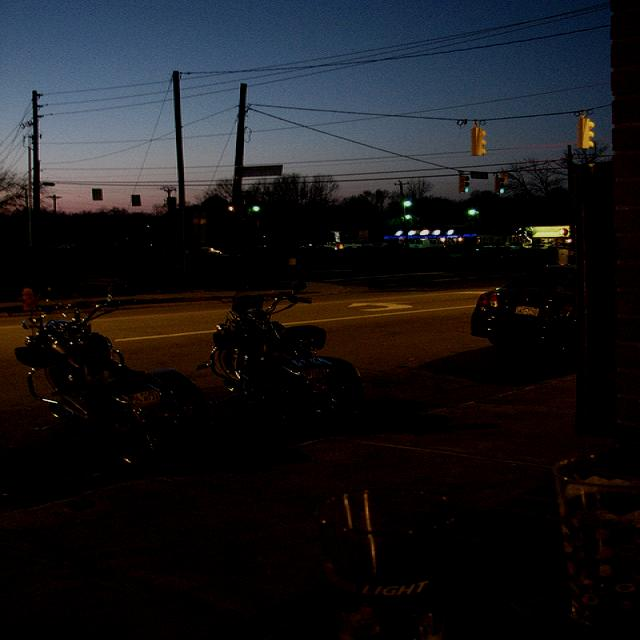Motorbike: (29, 274, 194, 514), (198, 241, 386, 450)
